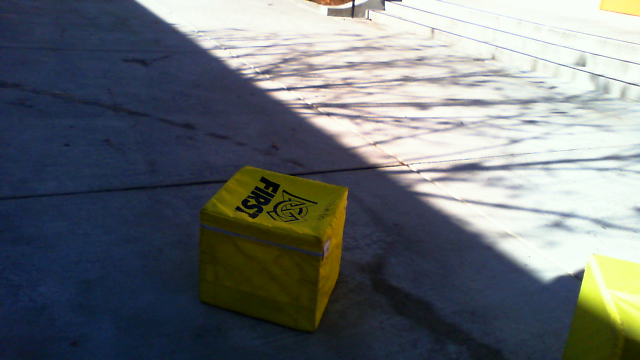cube: (197, 165, 349, 335), (561, 250, 640, 360)
